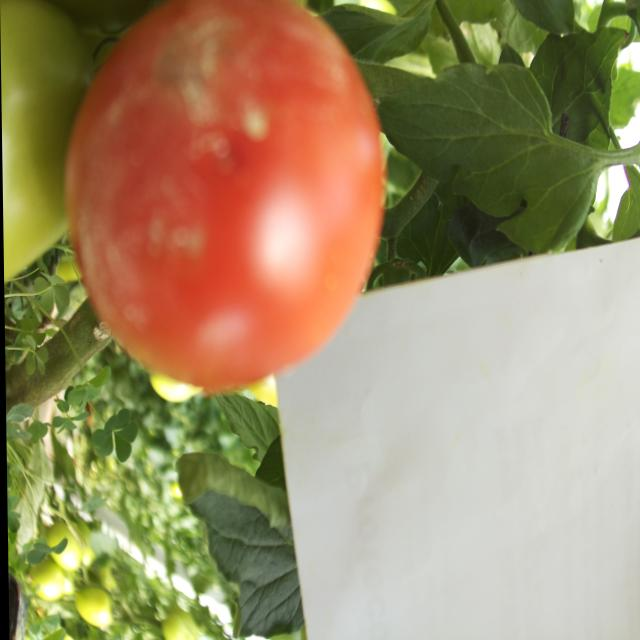kirmizi: (68, 0, 397, 373)
